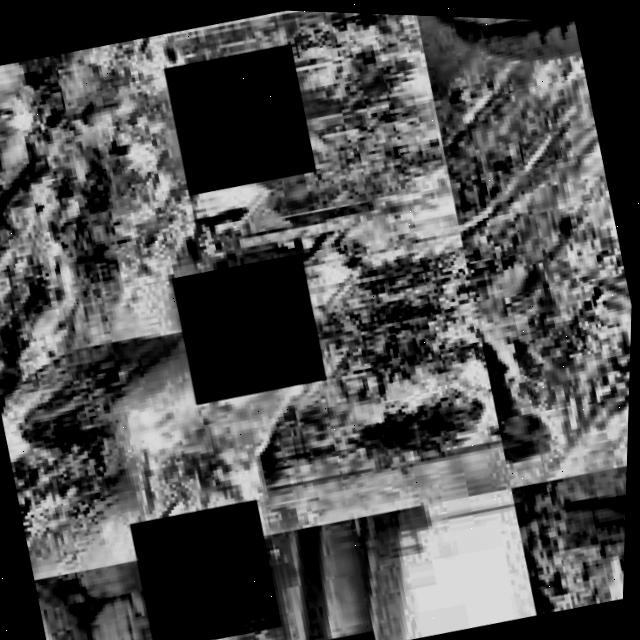excavator: (178, 187, 376, 323)
